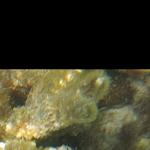dead: (4, 71, 150, 147)
